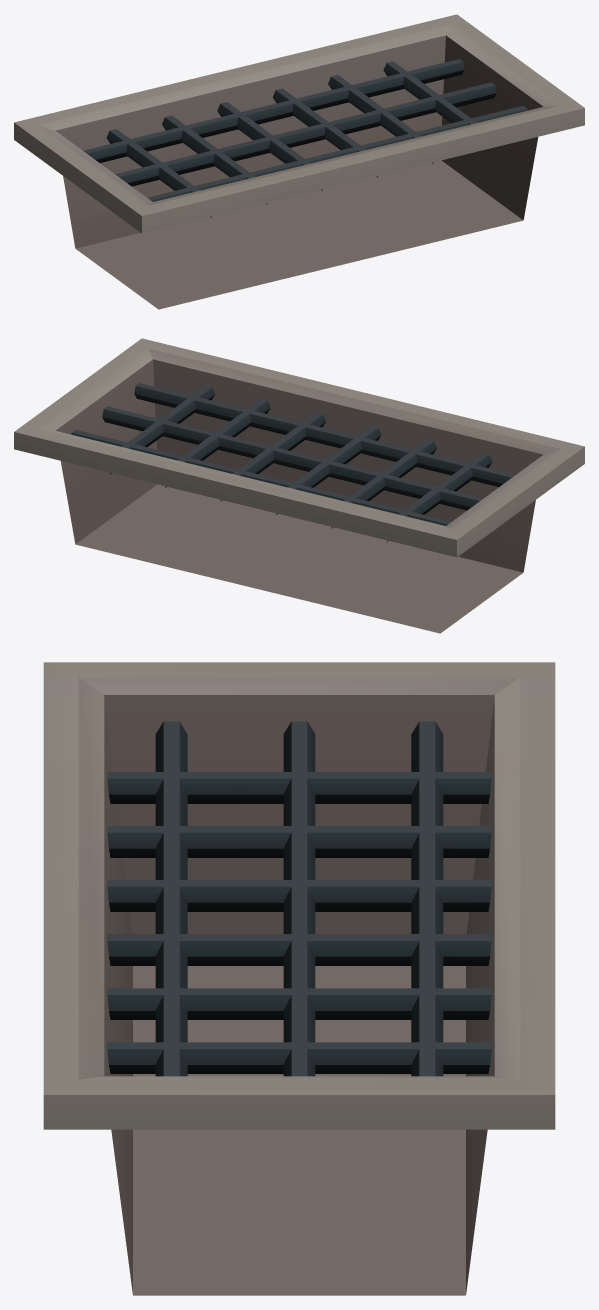
File: floor_tile_grate.glb
3 views of the same model, one above another, from view 1: azimuth 30°, elevation 25°; view 2: azimuth 150°, elevation 25°; view 3: azimuth 270°, elevation 25° (orthographic). The views are drawn at different scales.
Visible parts, largest first — view 1: floor_tile_grate; view 2: floor_tile_grate; view 3: floor_tile_grate.
Part boxes in pixels (left/top/right/bottom): floor_tile_grate: left=14, top=14, right=584, bottom=309; floor_tile_grate: left=14, top=338, right=584, bottom=633; floor_tile_grate: left=43, top=662, right=555, bottom=1295.
Size of the model in its own units: 4 by 1.03 by 2.
Materials: 1 (1 with a texture image).
